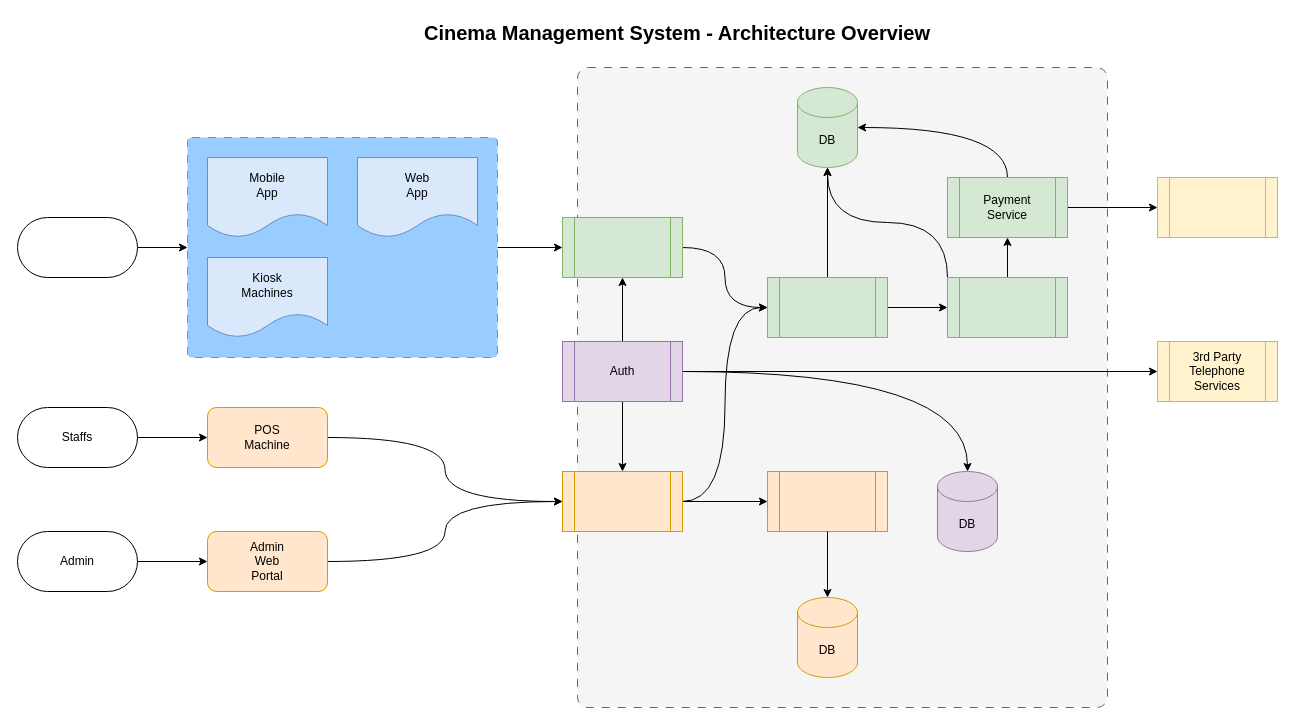
Image size: 1295x725. Some labels were removed from this diagram. The shapes that lost their labels are listed below. From the top down, each one's centre as x and y in pixels, then its label:
point 1217,207: 3rd Party Payment Services
point 77,247: Customers
point 622,247: Public Gateway
point 827,307: Cinema Service
point 1007,307: Ticket Service
point 622,501: Internal Gateway
point 827,501: Reporting Service
